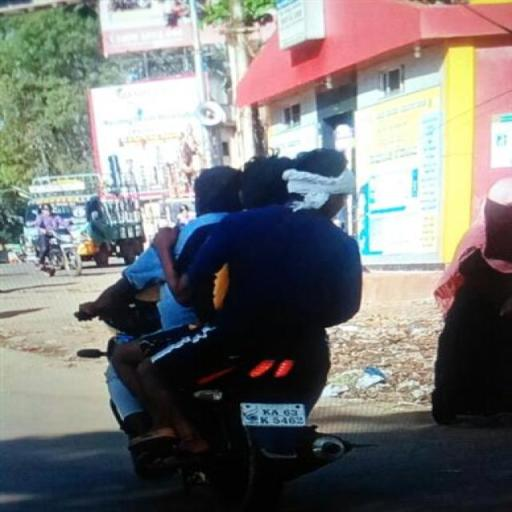tripple riding: (76, 148, 406, 352)
